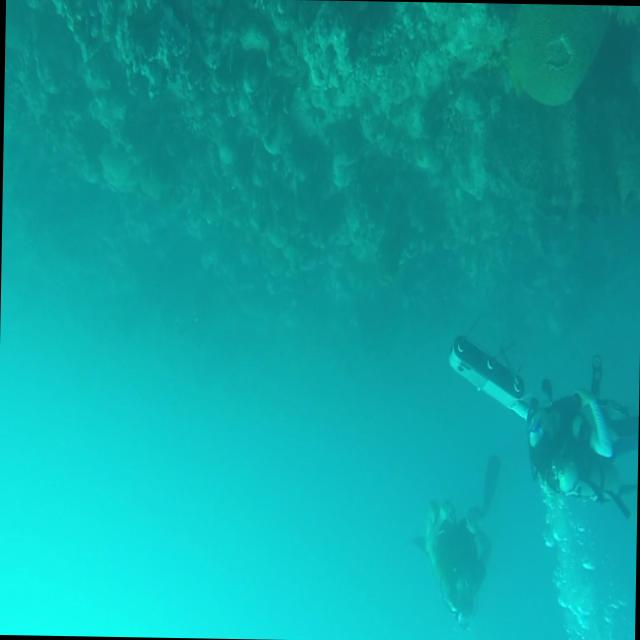human: (524, 354, 639, 520), (410, 453, 500, 631)
